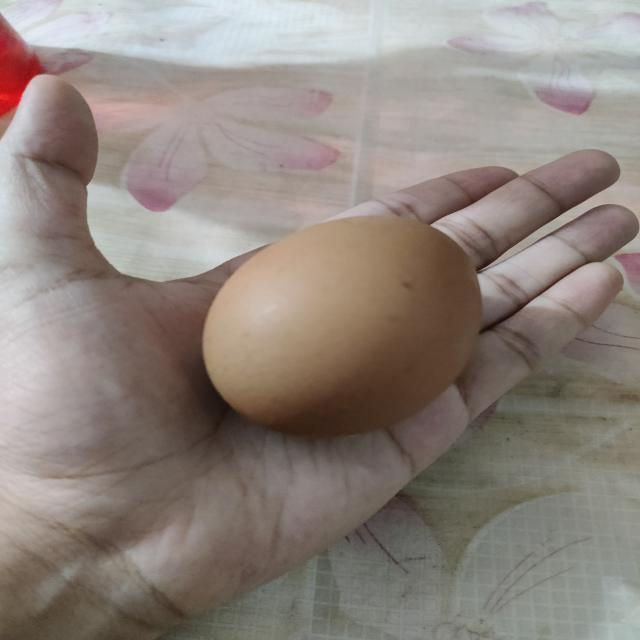egg: (201, 215, 490, 441)
